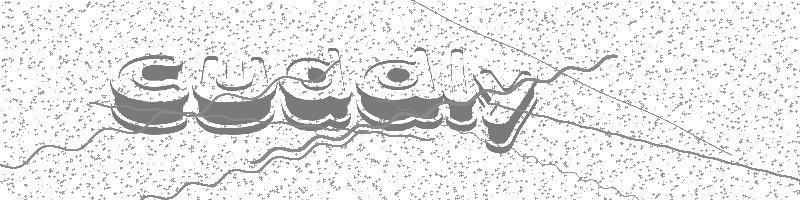c: (108, 54, 189, 135)
d: (355, 47, 444, 132), (279, 47, 352, 131)
l: (444, 48, 478, 132)
u: (192, 55, 277, 136)
y: (474, 69, 538, 155)
